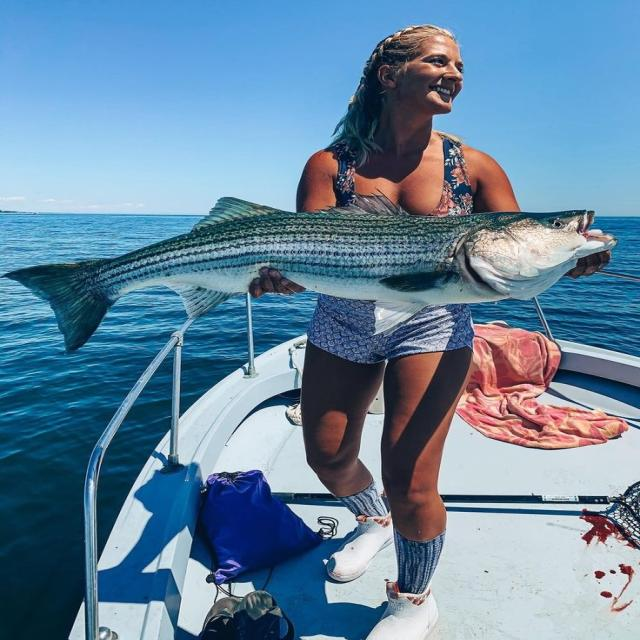Bass - Striped: (5, 198, 616, 351)
